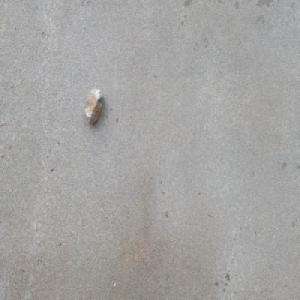Rock: (84, 87, 103, 126)
